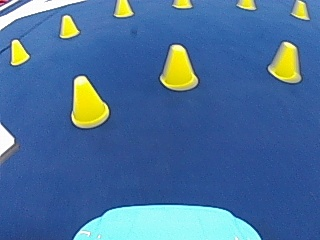cone: (69, 74, 109, 128), (159, 43, 198, 90), (267, 40, 301, 82), (8, 38, 29, 64), (58, 14, 79, 38), (291, 0, 309, 20), (113, 0, 133, 17), (237, 0, 255, 10), (173, 0, 191, 9)
